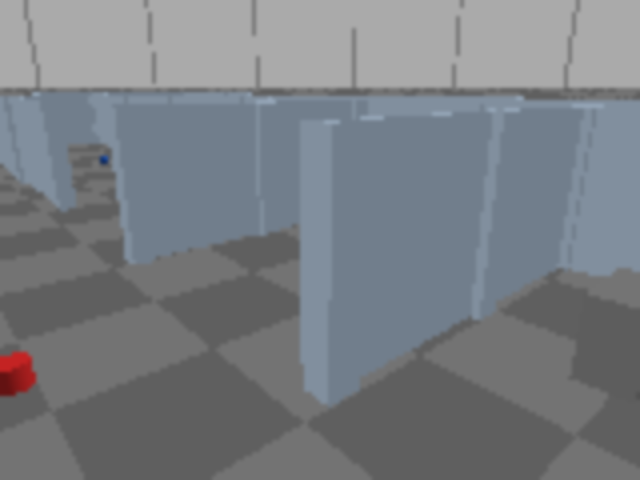obstacle: (569, 267, 638, 405)
puck: (0, 354, 35, 395)
